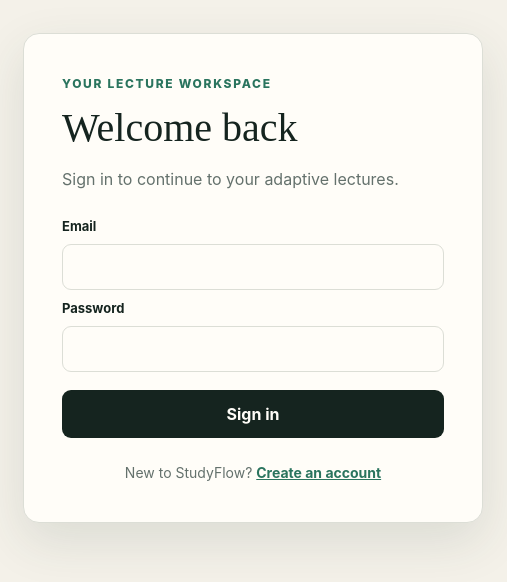
Test: AuthForm › shows an authentication error
Step 1. Type "person@example.com" into the field labelled "Email" → (253, 267), box x1=62 y1=244 x2=444 y2=290
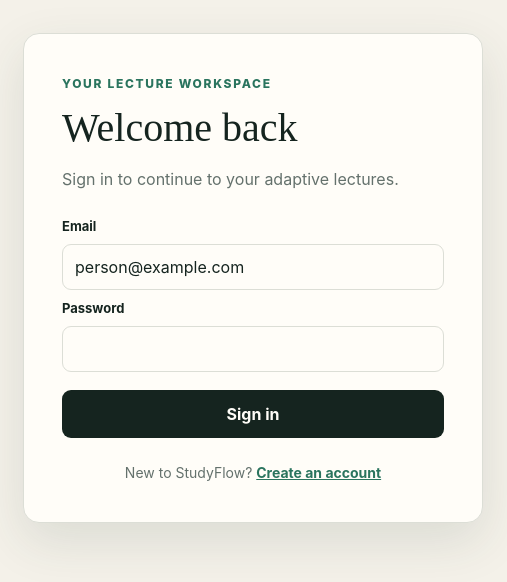
Step 2. Type "wrong-password" into the password field labelled "Password" → (253, 349), box x1=62 y1=326 x2=444 y2=372
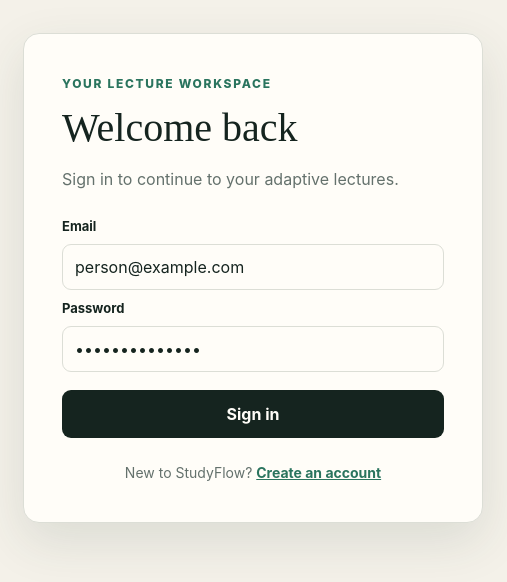
Step 3. Click the button "Sign in" → (253, 414), box x1=62 y1=390 x2=444 y2=438
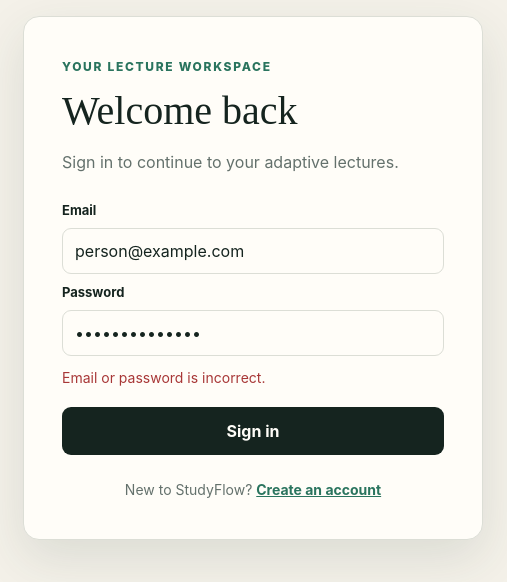
Expected: the message reads "Email or password is incorrect.", x1=62 y1=369 x2=265 y2=386
